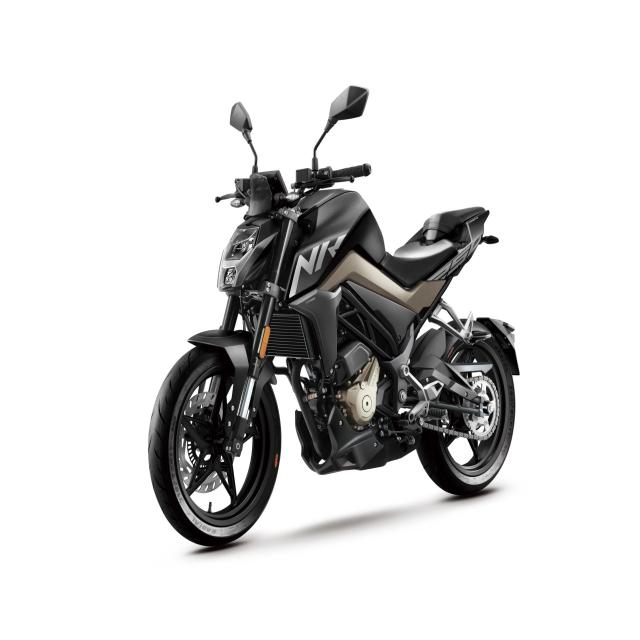Motorcycle: (148, 151, 520, 547)
